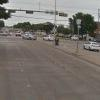Traffic light: (21, 3, 71, 19)
